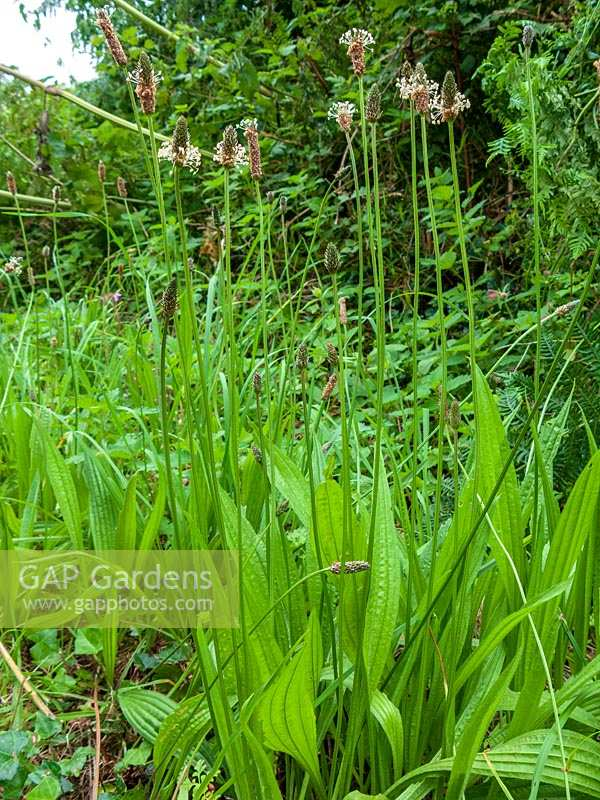buckhorn plantain: (31, 7, 580, 783)
